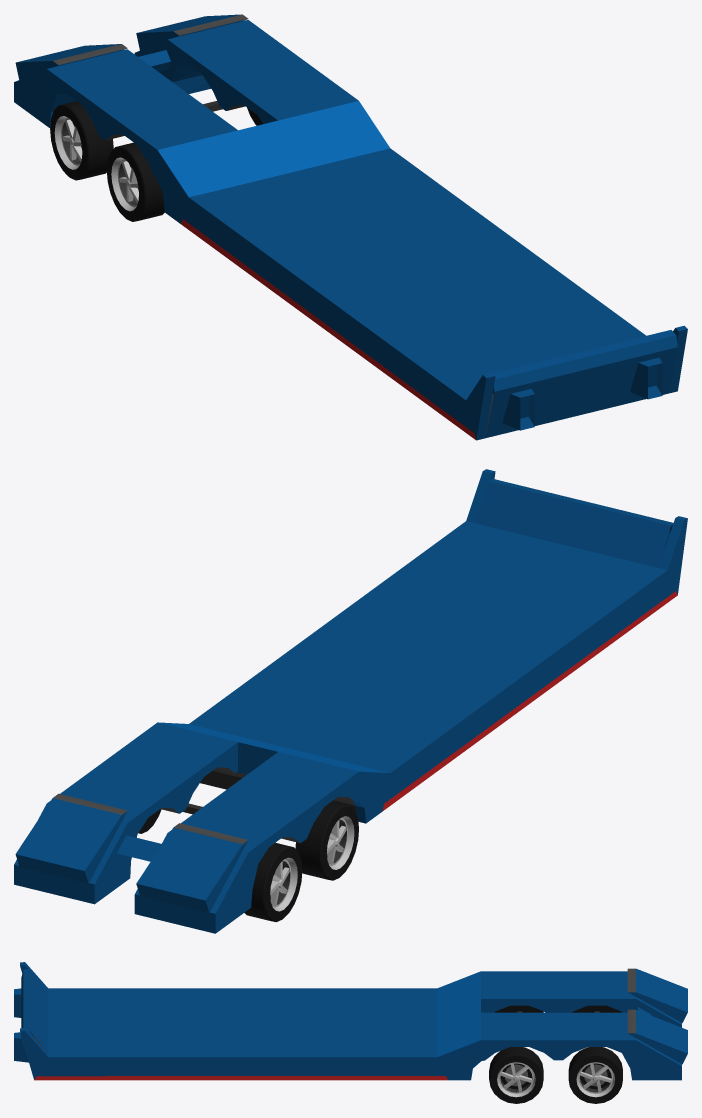
Rendered from Truck Trailer.fbx.
3 views of the same model, one above another, from view 1: azimuth 30°, elevation 25°; view 2: azimuth 150°, elevation 25°; view 3: azimuth 270°, elevation 25° (orthographic). The views are drawn at different scales.
Visible parts, largest first — view 1: Truck_Trailer, L_B1, R_F; view 2: Truck_Trailer, R_F, L_B1; view 3: Truck_Trailer, L_B, L_F, R_F, L_B1.
Part boxes in pixels (bbox=[...]): Truck_Trailer: bbox=[14, 14, 687, 440]; L_B1: bbox=[50, 101, 113, 180]; R_F: bbox=[106, 142, 164, 221]; Truck_Trailer: bbox=[14, 469, 687, 933]; R_F: bbox=[295, 801, 358, 880]; L_B1: bbox=[244, 842, 302, 922]; Truck_Trailer: bbox=[14, 962, 687, 1080]; L_B: bbox=[568, 1047, 622, 1103]; L_F: bbox=[489, 1047, 543, 1103]; R_F: bbox=[494, 1005, 543, 1012]; L_B1: bbox=[572, 1005, 621, 1012].
Bounding box in the file's own units: 174 × 75.64 × 660.
